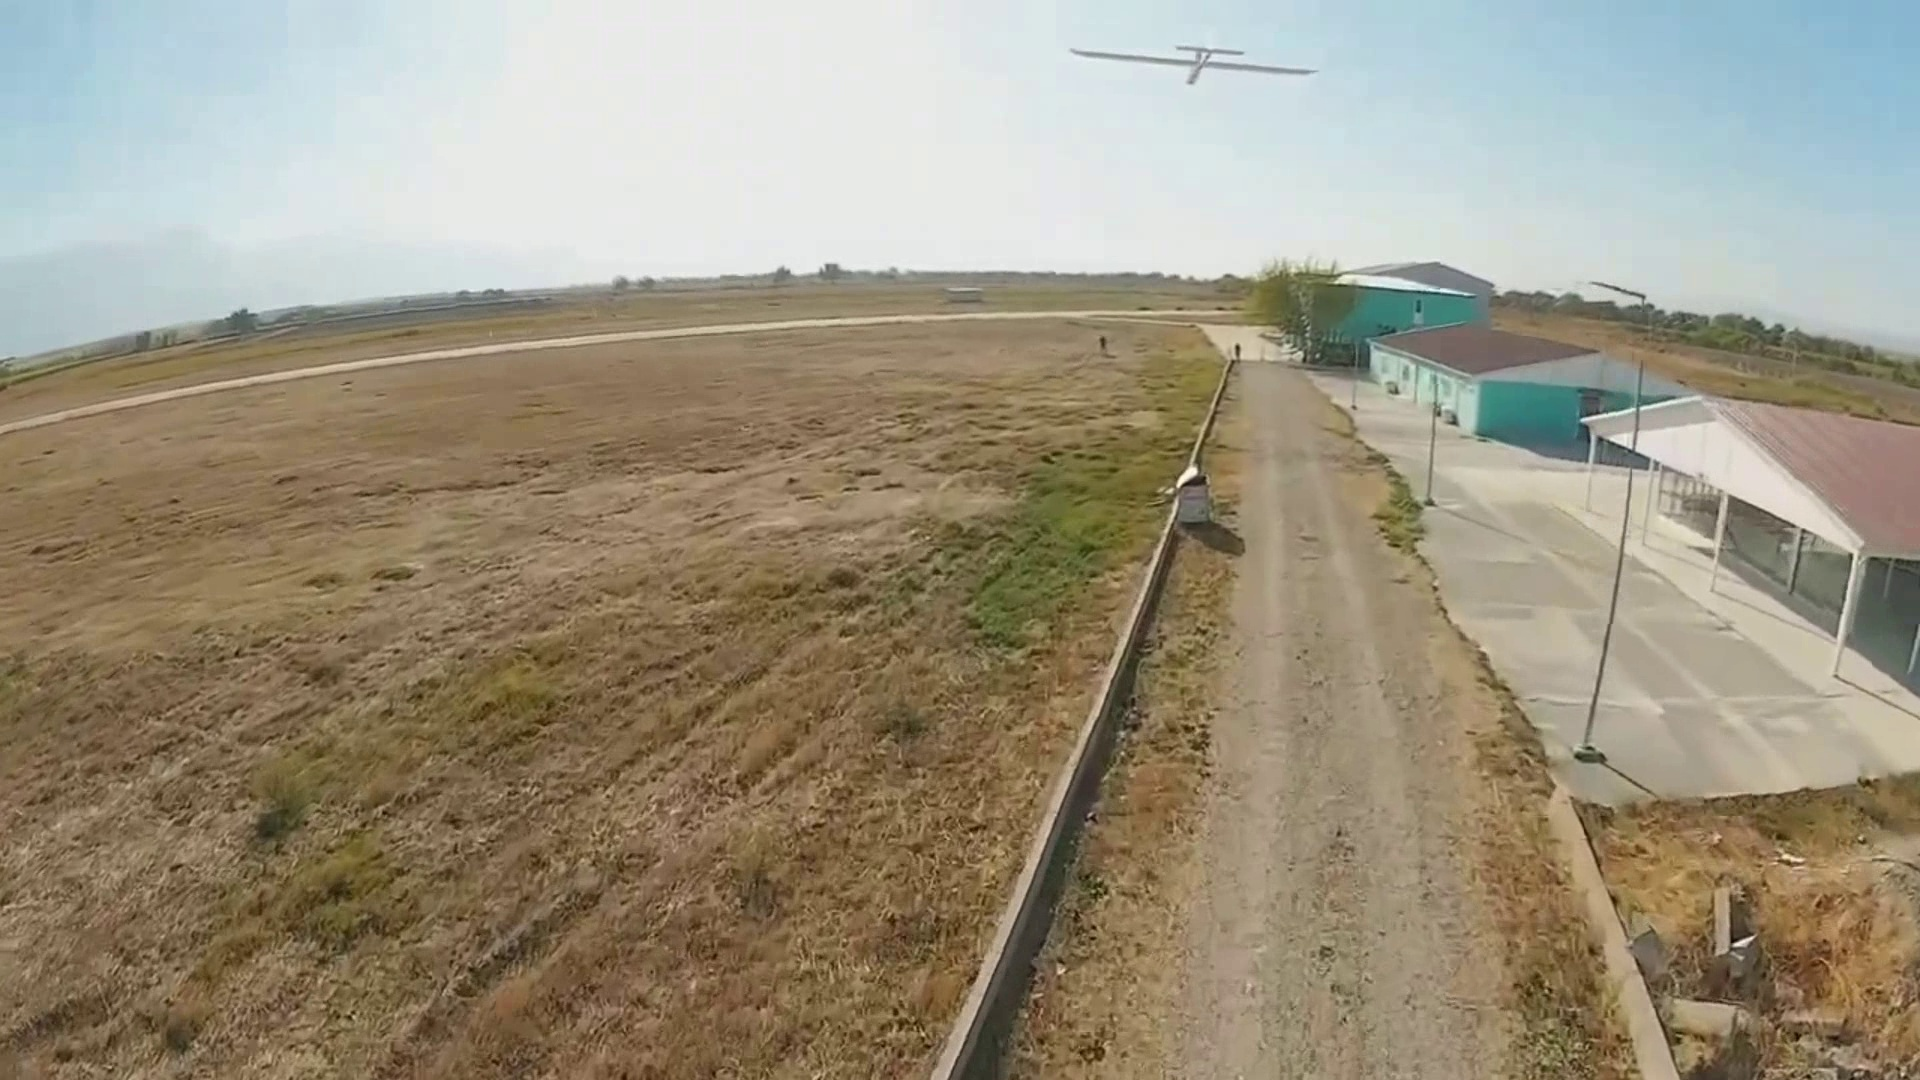airplane: (1065, 42, 1320, 88)
